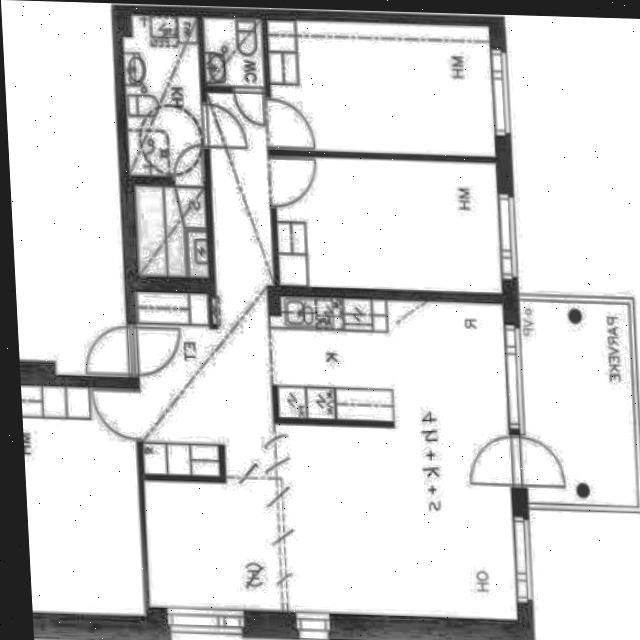room: (269, 157, 505, 293), (264, 22, 497, 156), (20, 380, 143, 619), (122, 13, 204, 180), (134, 182, 208, 280), (203, 16, 263, 90)
